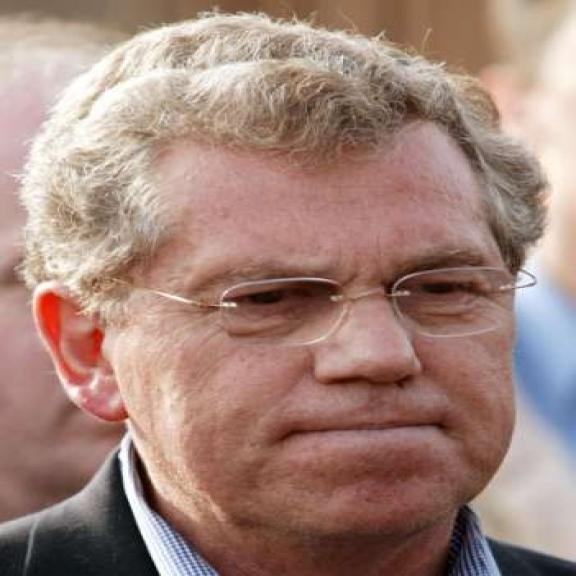face: (53, 143, 524, 548)
